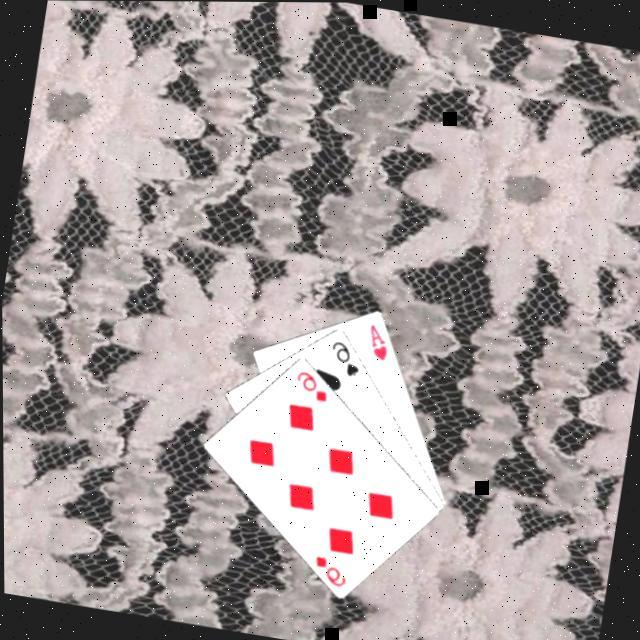6D: (308, 552, 352, 592), (290, 368, 333, 407)
6S: (324, 338, 366, 382)
AH: (362, 321, 394, 366)
